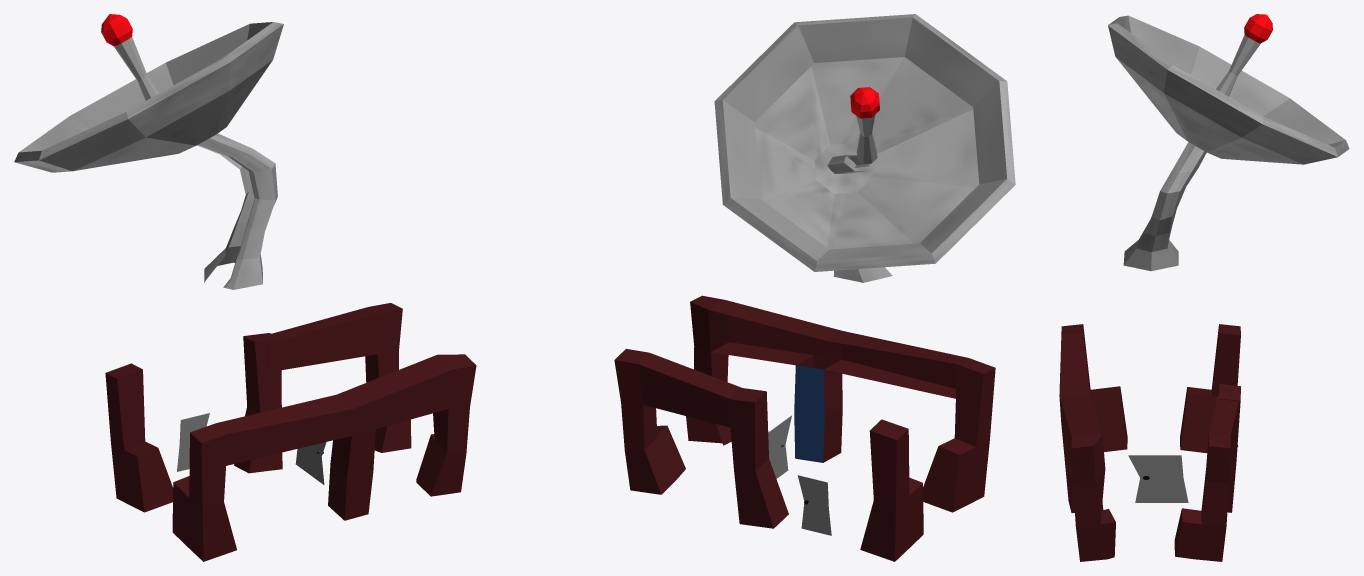
The model's file is Casa Franque.fbx.
3 views of the same model, side by side, from view 1: azimuth 30°, elevation 25°; view 2: azimuth 150°, elevation 25°; view 3: azimuth 270°, elevation 25° (orthographic). The views are drawn at different scales.
Parts seen in each view (by area): view 1: Cube.002, Cylinder.002, Cylinder.001, Cube.010, Cube.003; view 2: Cylinder.002, Cube.002, Cube.010, Cylinder.001, Cube.003; view 3: Cube.002, Cylinder.002, Cylinder.001, Cube.003.
Part boxes in pixels (x1,y1,x2,y2): Cube.002: (105, 303, 476, 561); Cylinder.002: (14, 14, 283, 172); Cylinder.001: (197, 133, 277, 289); Cube.010: (177, 413, 209, 471); Cube.003: (295, 442, 326, 484); Cylinder.002: (714, 14, 1015, 271); Cube.002: (614, 295, 995, 561); Cube.010: (797, 475, 831, 535); Cylinder.001: (827, 155, 892, 282); Cube.003: (768, 415, 791, 478); Cube.002: (1059, 324, 1240, 561); Cylinder.002: (1108, 14, 1349, 164); Cylinder.001: (1123, 142, 1206, 271); Cube.003: (1128, 455, 1188, 502).
Bounding box in the file's own units: 1071 × 1081 × 678.
